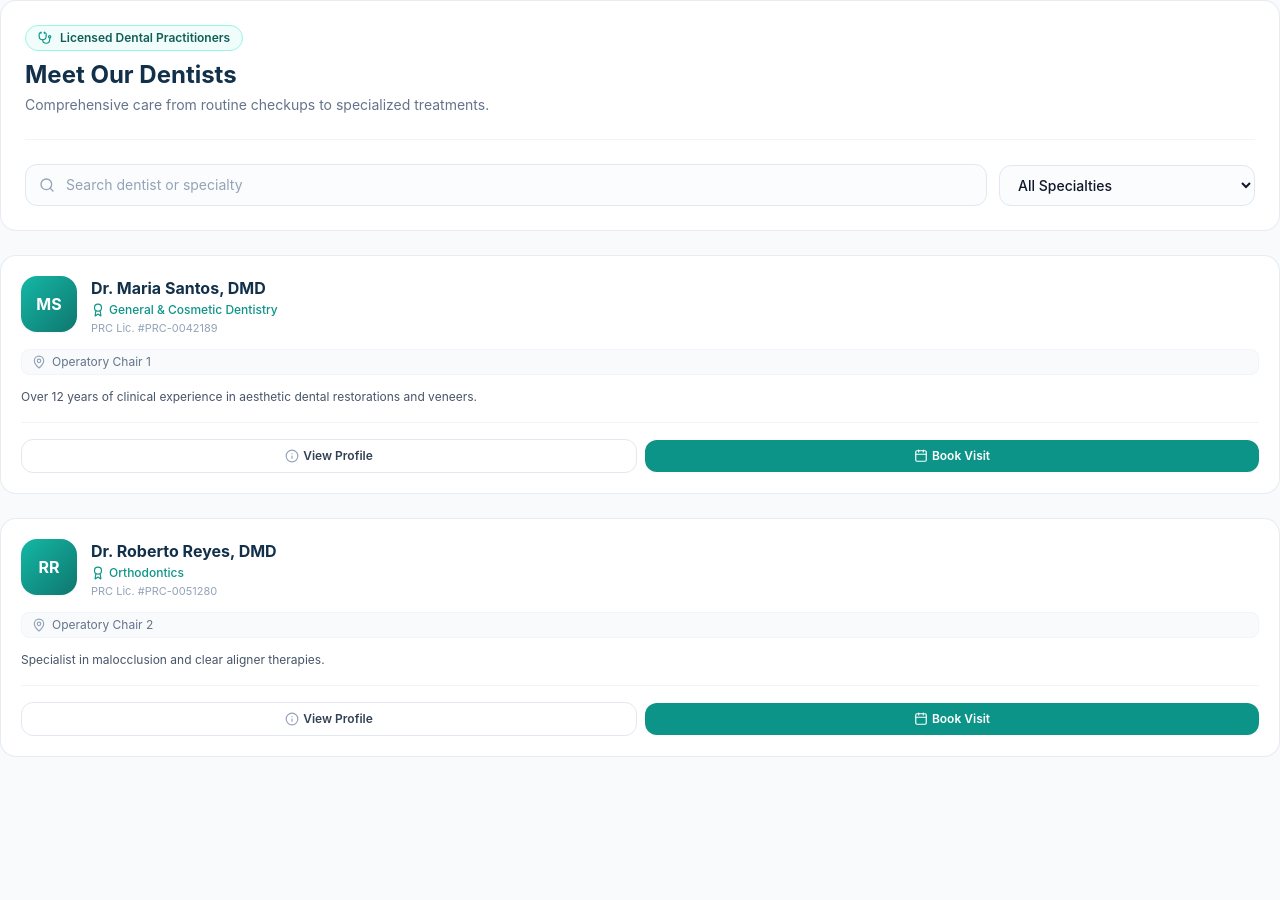
Scenario: PatientDentistsPage Component › opens dentist profile dialog when clicking View Profile
The width and height of the screenshot is (1280, 900).
Expected: the heading "Dr. Maria Santos, DMD" is shown, top-left (91, 278), bottom-right (266, 298)
Click the button "View Profile" below "Operatory Chair 1" at (329, 456), box top-left (21, 439), bottom-right (637, 473)
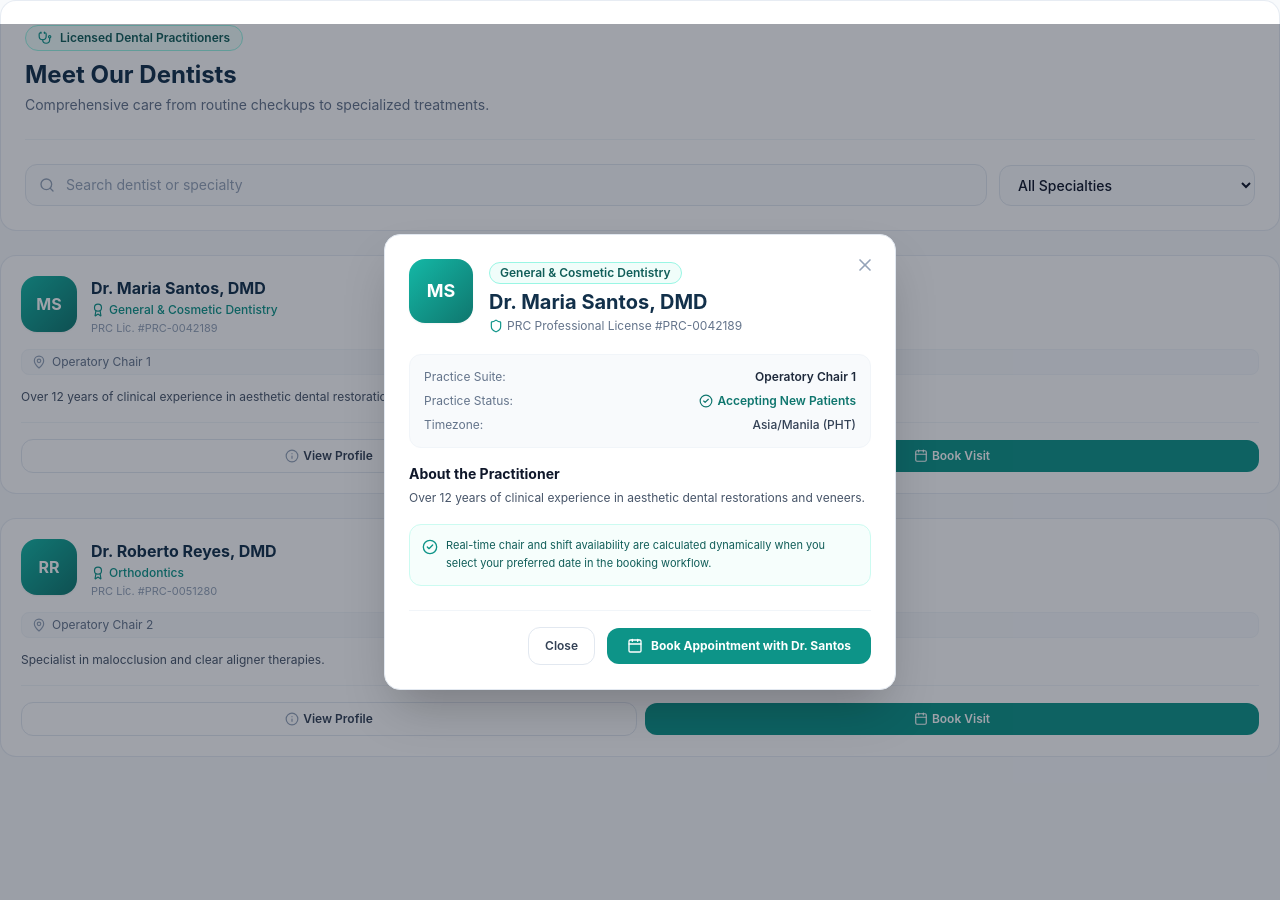
Now the dialog is shown
Now the heading "About the Practitioner" is shown, box top-left (409, 465), bottom-right (560, 482)
Now the text "PRC Professional License #PRC-0042189" is shown, box top-left (507, 318), bottom-right (742, 334)
